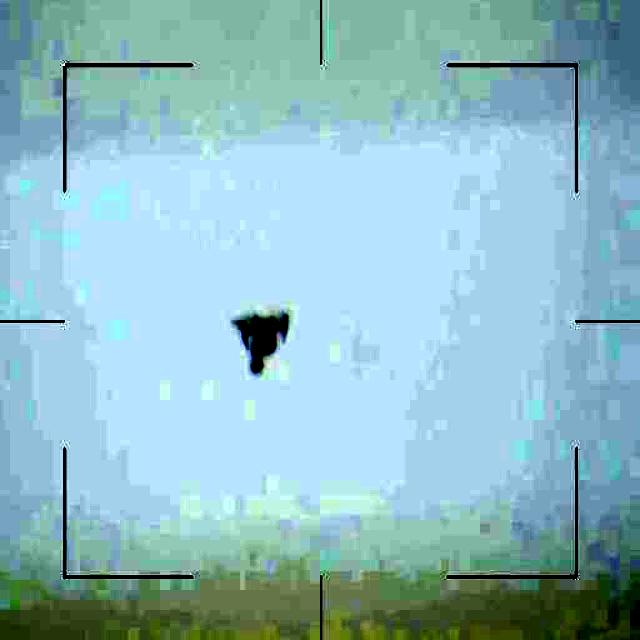bird: (220, 306, 292, 372)
